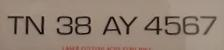3: (54, 11, 74, 36)
4: (143, 12, 163, 35)
5: (163, 14, 182, 37)
6: (182, 14, 200, 37)
7: (199, 12, 218, 38)
8: (74, 13, 95, 36)
A: (100, 13, 122, 36)
N: (24, 12, 46, 36)
T: (6, 12, 25, 36)
Y: (119, 13, 139, 36)
